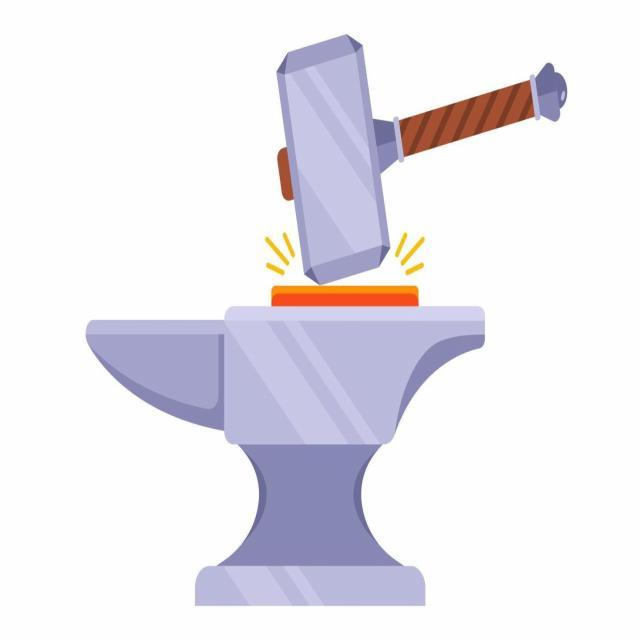hammer: (274, 14, 575, 290)
